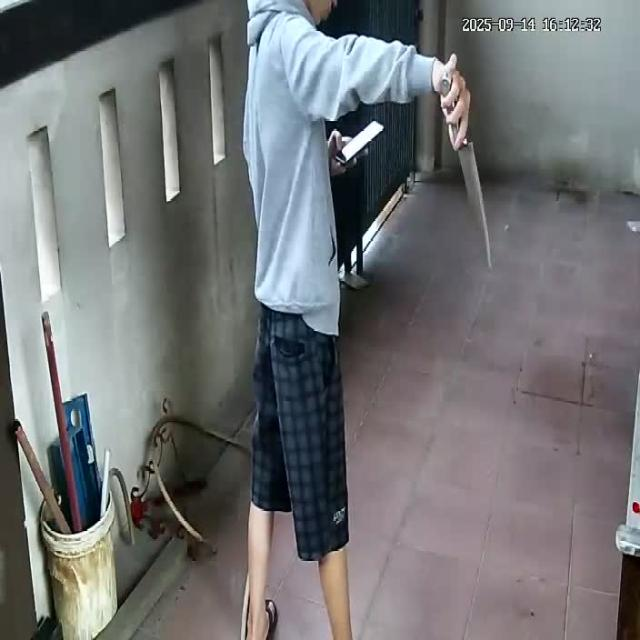senjata_tajam: (456, 139, 497, 271)
